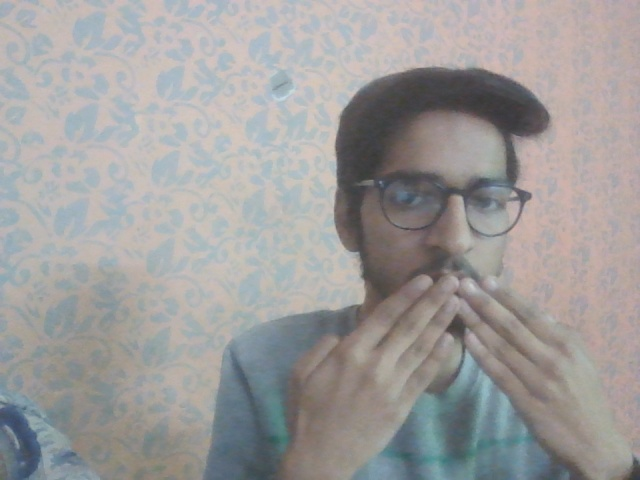ThankYou: (272, 270, 632, 478)
